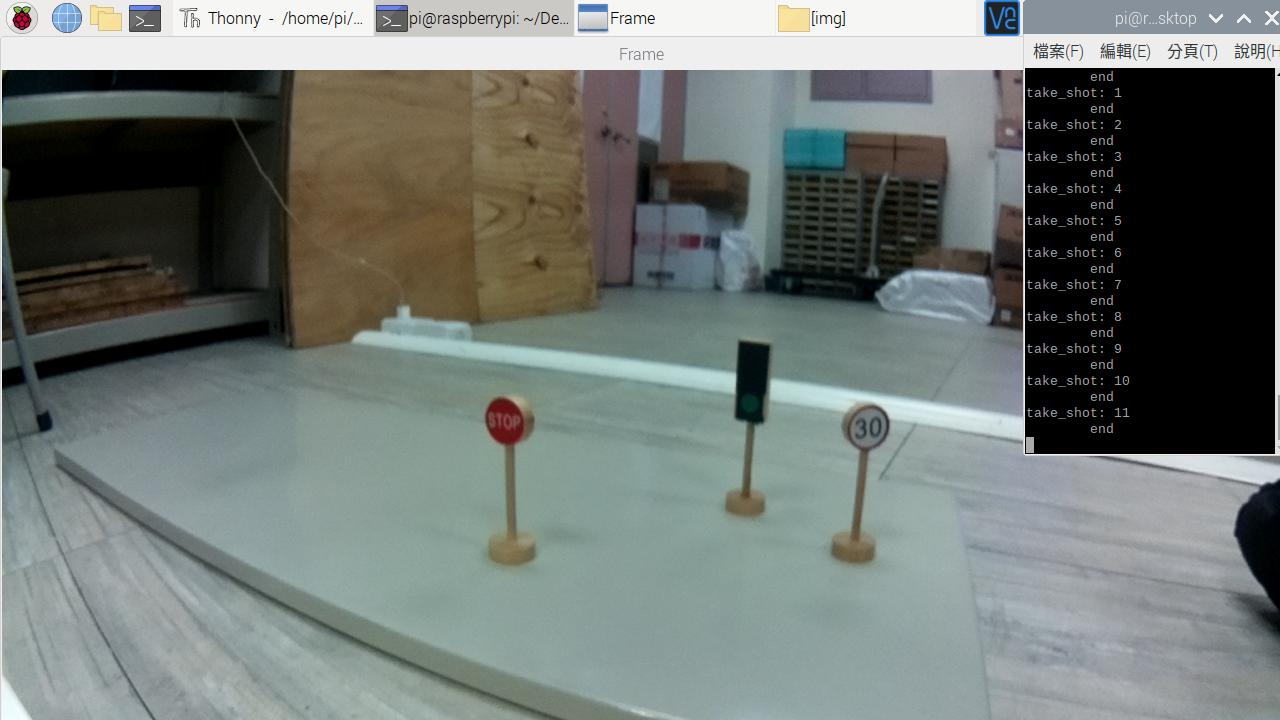Green: (733, 339, 768, 425)
Speed30: (848, 400, 887, 447)
Stop: (484, 396, 533, 440)
